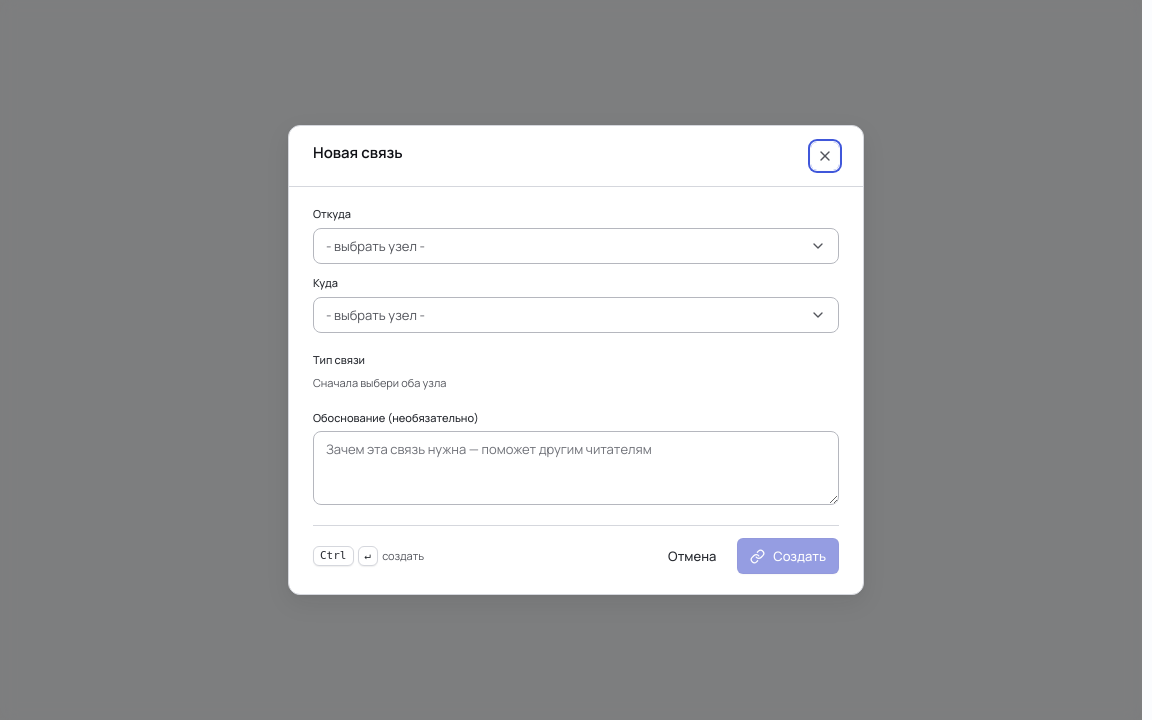
AddEdgeModal › запрещённая пара (CLAIM → ARGUMENT) показывает заглушку и блокирует Создать
This screenshot has width=1152, height=720.
Click the button named "Откуда".
click(375, 246)  # box [313, 228, 839, 264]
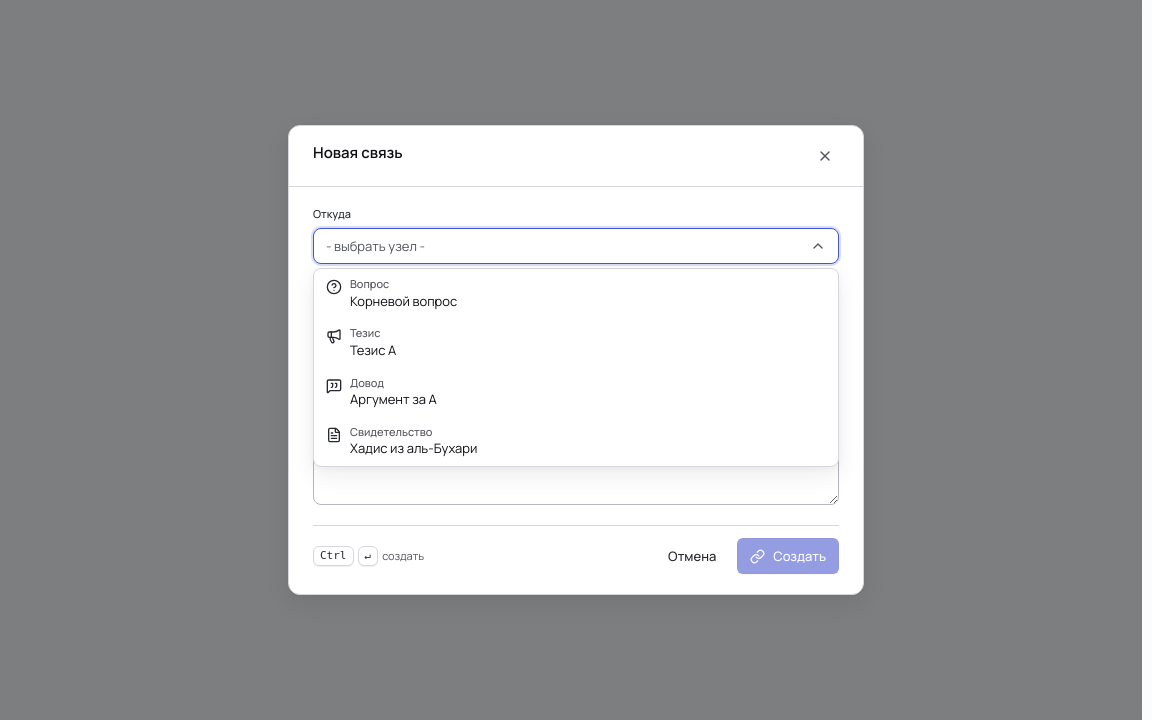
Click the text "Тезис А".
click(373, 350)  # box [350, 341, 396, 359]
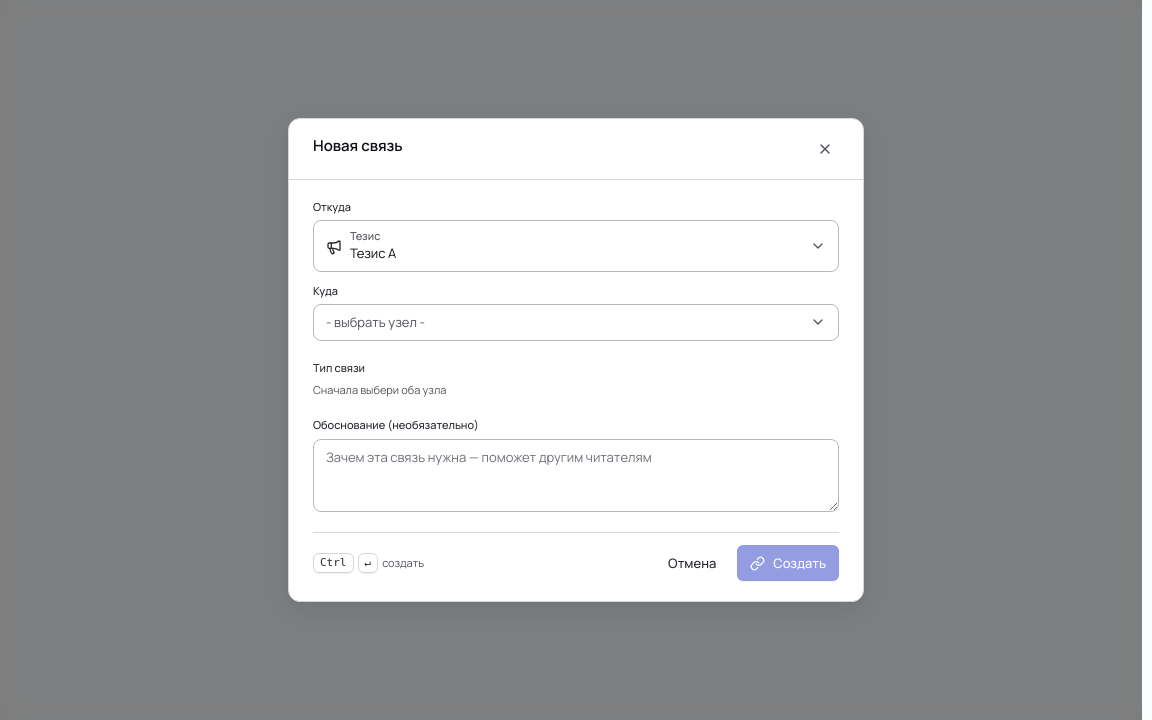
Click the button named "Куда".
click(375, 322)  # box [313, 304, 839, 341]
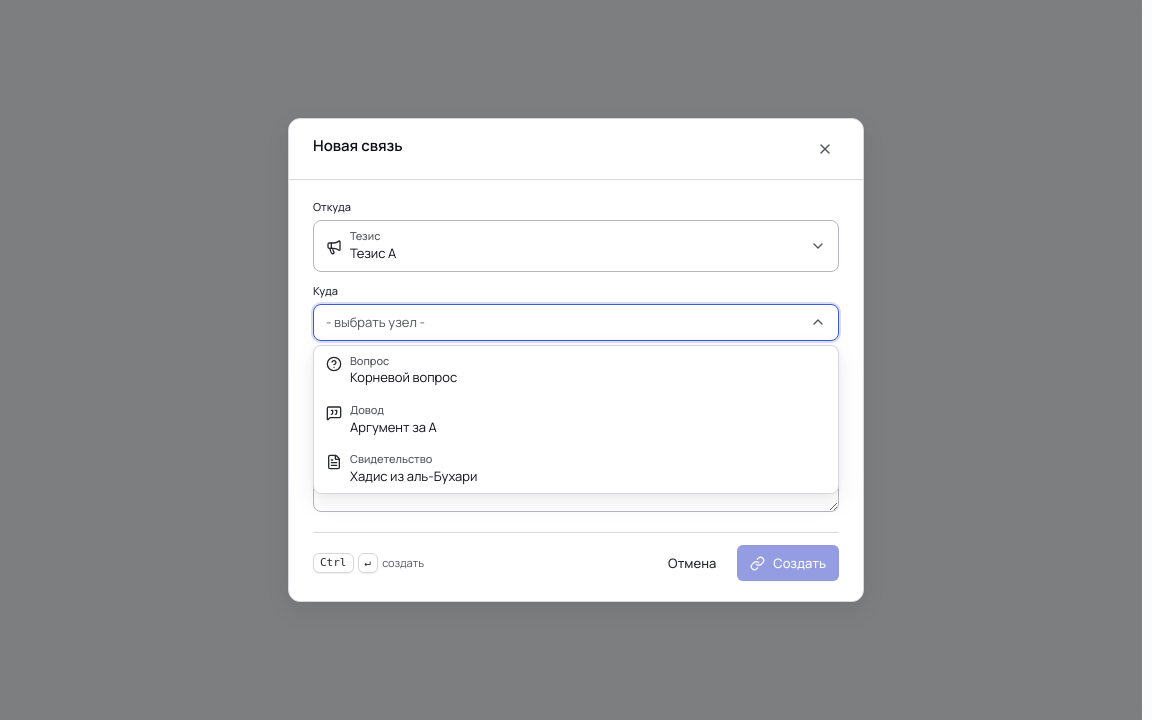
Click the text "Аргумент за А".
click(393, 427)  # box [350, 418, 437, 436]
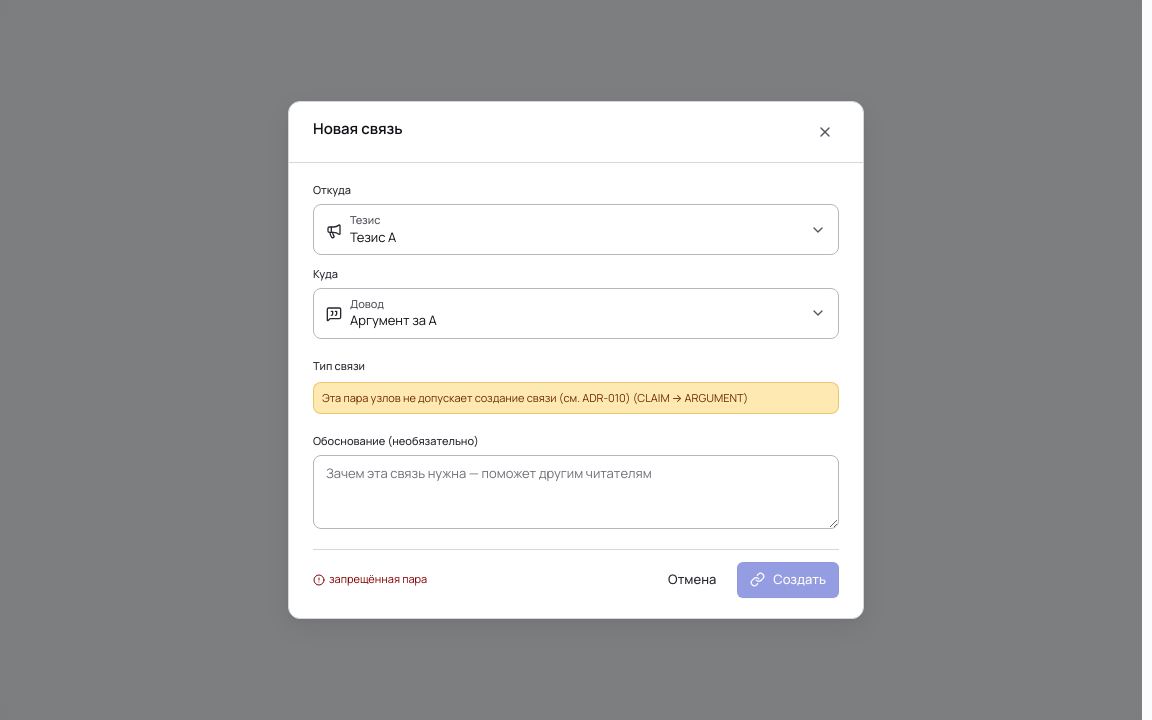
Expected: the button "Создать" is disabled, [737, 562, 839, 598]
Expected: the text "Эта пара узлов не допускает" is shown, [322, 390, 630, 405]
